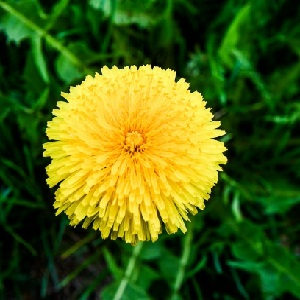dandelion: (46, 69, 223, 240)
